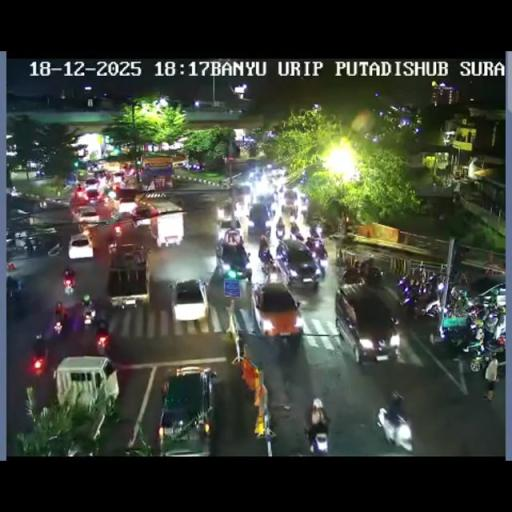Car: (335, 281, 402, 362), (157, 368, 214, 455), (54, 355, 120, 414), (250, 280, 302, 339), (106, 244, 150, 306), (144, 198, 184, 248), (214, 231, 252, 281), (170, 278, 208, 322), (472, 282, 505, 311), (247, 202, 271, 236), (230, 184, 252, 219), (67, 233, 93, 259), (250, 174, 274, 202), (280, 189, 299, 223), (116, 194, 138, 217), (74, 206, 99, 226), (217, 217, 236, 238), (84, 178, 100, 198), (267, 166, 285, 182), (112, 170, 126, 184)
Motorcycle: (377, 390, 410, 448), (400, 278, 442, 320), (434, 313, 476, 355), (480, 316, 505, 354), (305, 236, 329, 274), (447, 286, 470, 315), (307, 424, 329, 454), (31, 337, 48, 374), (259, 251, 279, 281), (94, 316, 110, 353), (10, 288, 28, 318), (360, 262, 383, 285), (468, 346, 488, 372), (465, 302, 486, 325), (200, 368, 218, 394), (342, 266, 364, 285), (23, 236, 43, 255), (62, 266, 76, 292), (276, 236, 289, 259), (82, 306, 96, 326), (397, 274, 411, 294), (434, 272, 447, 291), (54, 301, 66, 321), (259, 235, 270, 256), (108, 229, 118, 252), (309, 223, 322, 240), (300, 194, 310, 214), (417, 266, 427, 286), (335, 248, 345, 267), (275, 220, 285, 238), (6, 236, 18, 251), (292, 228, 304, 242), (53, 318, 63, 334), (15, 278, 26, 292)
